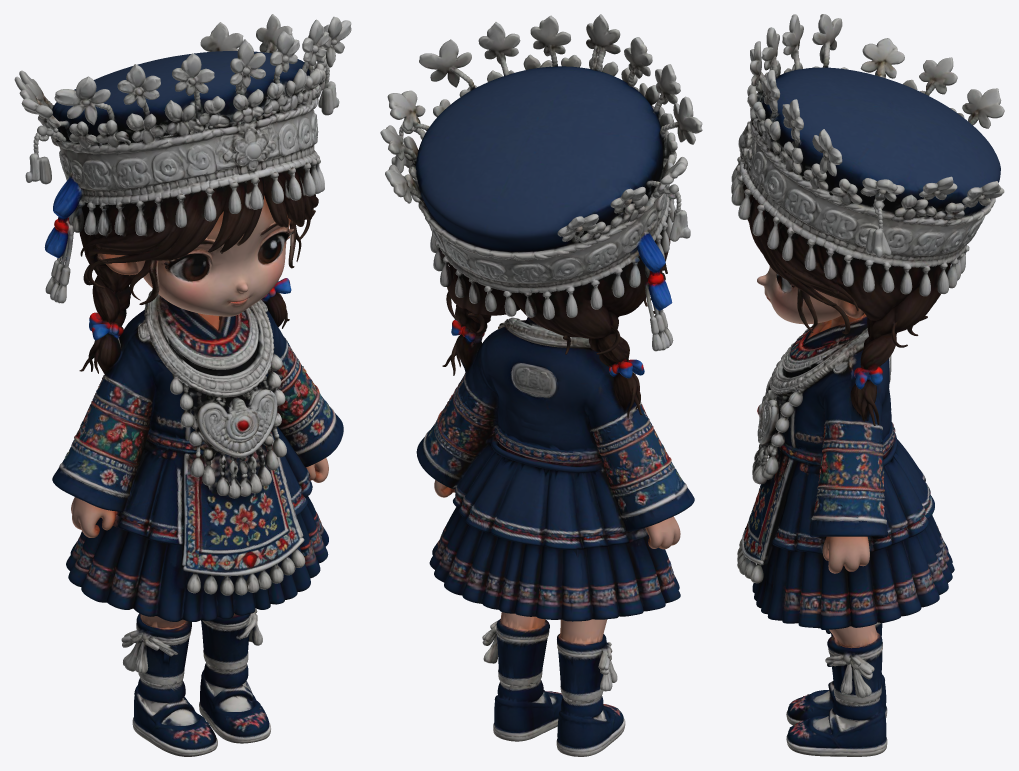
Rendered from MiaoGirl_1.glb.
3 renders of one model, left to right at view 1: azimuth 30°, elevation 25°; view 2: azimuth 150°, elevation 25°; view 3: azimuth 270°, elevation 25°, orthographic. The views are drawn at different scales.
Parts seen in each view (by area): view 1: tripo_node_5f70c3d8-9cfe-4da2-9136-7ff074ef0d3e; view 2: tripo_node_5f70c3d8-9cfe-4da2-9136-7ff074ef0d3e; view 3: tripo_node_5f70c3d8-9cfe-4da2-9136-7ff074ef0d3e.
Boxes of the visible parts, x1,y1,x2,y2 form: tripo_node_5f70c3d8-9cfe-4da2-9136-7ff074ef0d3e: (14, 14, 351, 756); tripo_node_5f70c3d8-9cfe-4da2-9136-7ff074ef0d3e: (380, 14, 702, 756); tripo_node_5f70c3d8-9cfe-4da2-9136-7ff074ef0d3e: (731, 14, 1004, 756).
Size of the model in its own units: 0.4435 by 0.9778 by 0.3506.
Materials: 1 (1 with a texture image).
